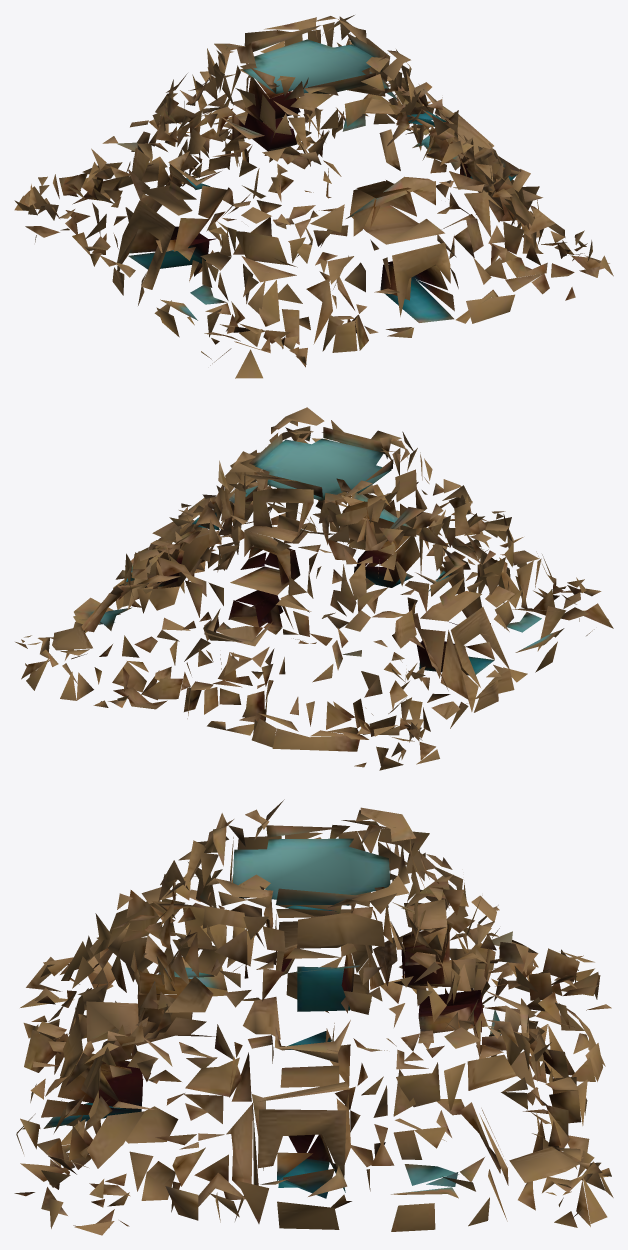
File: cav_rimstone_pool_terrace_LOD3.glb
3 views of the same model, one above another, from view 1: azimuth 30°, elevation 25°; view 2: azimuth 150°, elevation 25°; view 3: azimuth 270°, elevation 25° (orthographic). The views are drawn at different scales.
Parts seen in each view (by area): view 1: tripo_node_12a77af8-fa9d-4081-bc1f-98421c458a2b; view 2: tripo_node_12a77af8-fa9d-4081-bc1f-98421c458a2b; view 3: tripo_node_12a77af8-fa9d-4081-bc1f-98421c458a2b.
Part boxes in pixels (box(x1,y1,x2,y2)): tripo_node_12a77af8-fa9d-4081-bc1f-98421c458a2b: box(14, 15, 613, 378); tripo_node_12a77af8-fa9d-4081-bc1f-98421c458a2b: box(15, 407, 613, 770); tripo_node_12a77af8-fa9d-4081-bc1f-98421c458a2b: box(14, 799, 613, 1235).
Size of the model in its own units: 1 by 0.5038 by 0.9773.
1 material, 1 textured.
